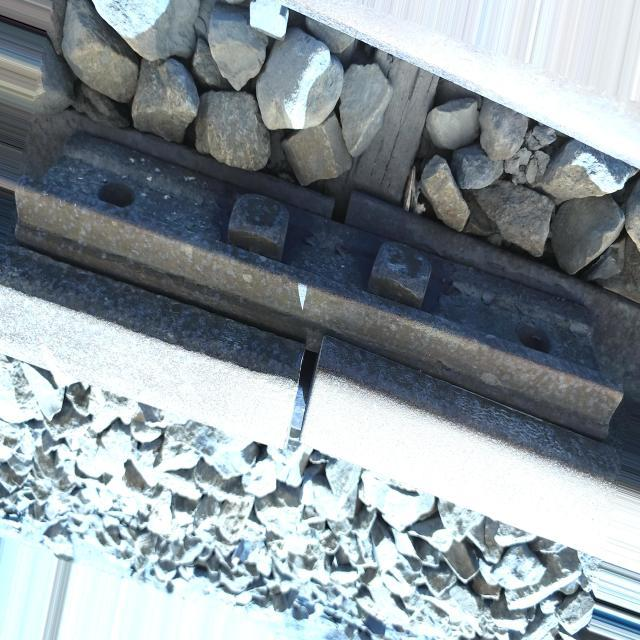Defective Joint: (15, 133, 623, 440)
